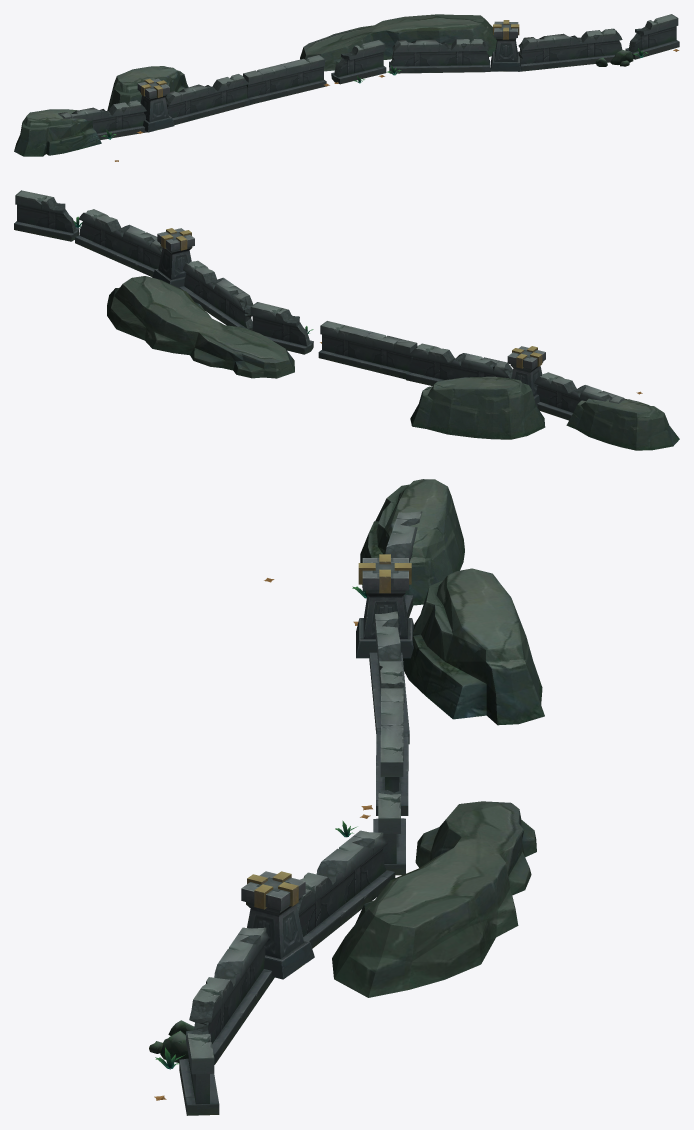
Rendered from 1Moba_hulan05.FBX.
3 renders of one model, top to bottom at view 1: azimuth 30°, elevation 25°; view 2: azimuth 150°, elevation 25°; view 3: azimuth 270°, elevation 25°, orthographic. The views are drawn at different scales.
Visible parts, largest first — view 1: 1Moba_hulan05; view 2: 1Moba_hulan05; view 3: 1Moba_hulan05.
Part boxes in pixels (x1,y1,x2,y2): 1Moba_hulan05: (14, 14, 679, 161); 1Moba_hulan05: (14, 190, 679, 450); 1Moba_hulan05: (149, 479, 544, 1115).
Bounding box in the file's own units: 958 × 71.42 × 270.
Materials: 1 (1 with a texture image).
